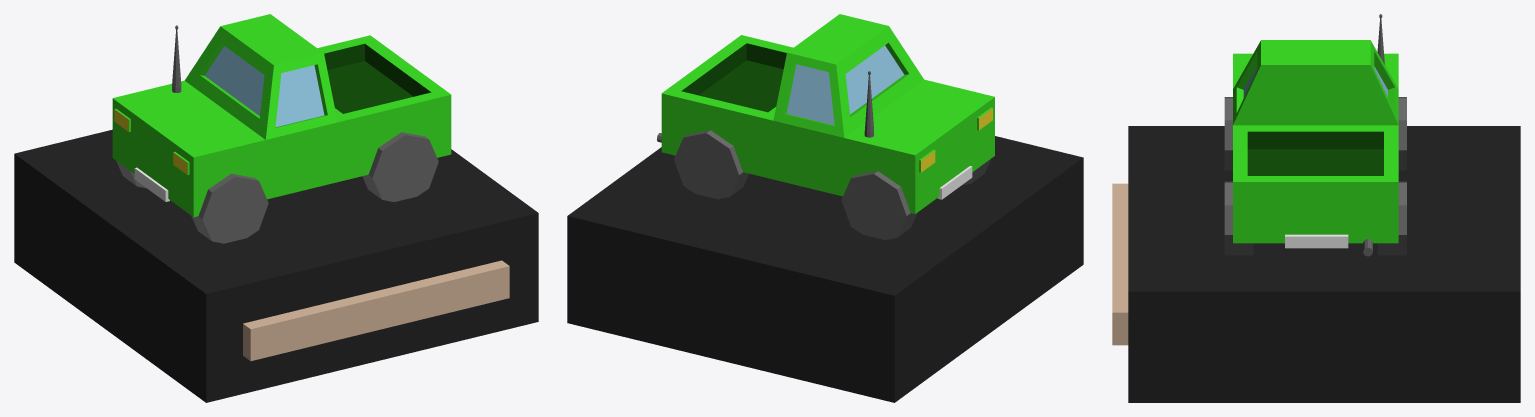
File: trophy2.glb
3 renders of one model, left to right at view 1: azimuth 30°, elevation 25°; view 2: azimuth 150°, elevation 25°; view 3: azimuth 270°, elevation 25°, orthographic. The views are drawn at different scales.
Parts seen in each view (by area): view 1: trophy; view 2: trophy; view 3: trophy.
Boxes of the visible parts, <box> form: trophy: <box>14,14,538,402</box>; trophy: <box>567,14,1083,402</box>; trophy: <box>1112,14,1520,402</box>.
Bounding box in the file's own units: 4.94 × 3.75 × 5.14.
Materials: 1 (1 with a texture image).
